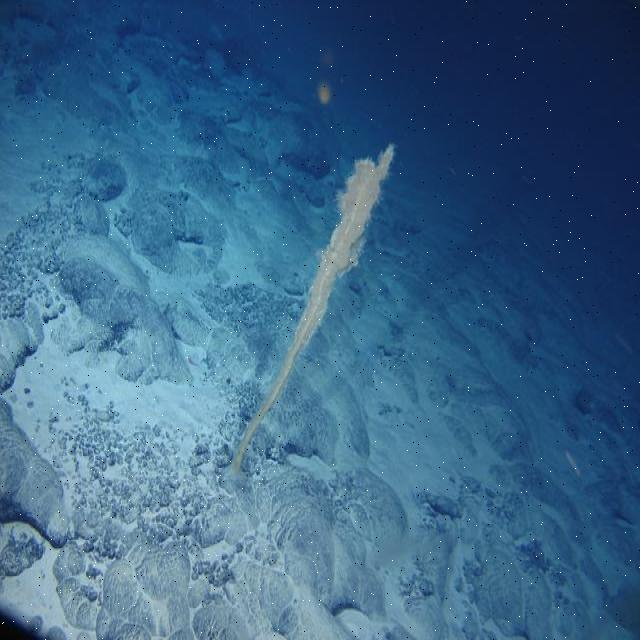aquatic plants: (234, 141, 393, 470)
